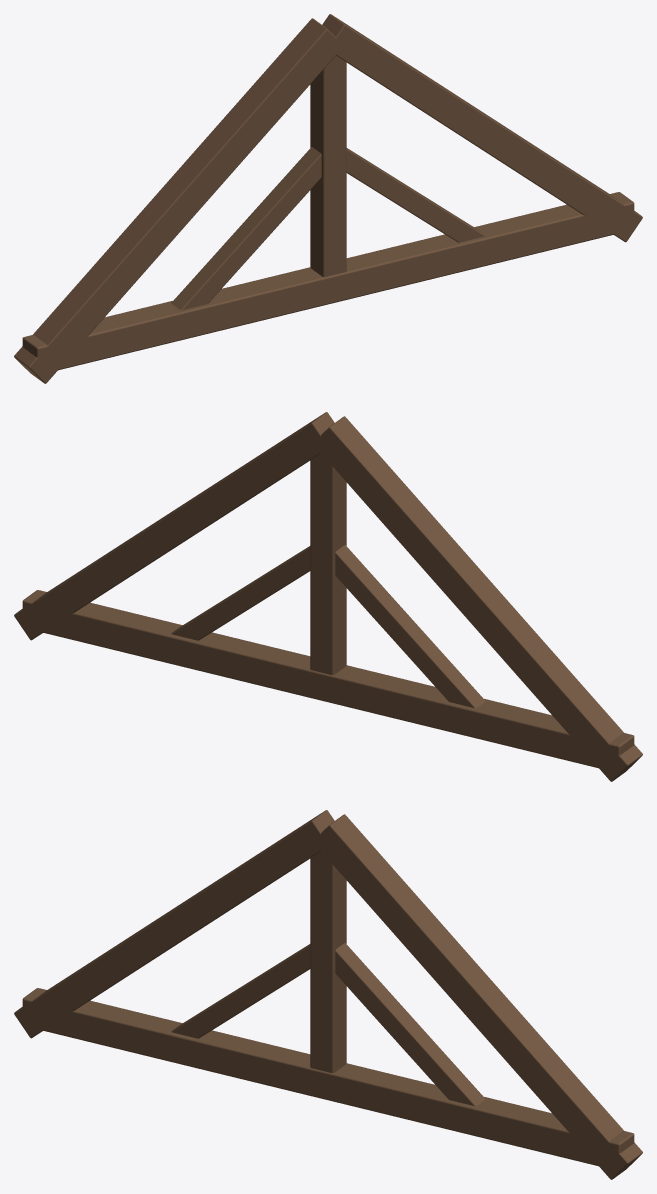
File: adventurers-tavern-and-guild-hall-king-post-truss-b78120d7__24677.glb
The picture shows the model from 3 angles, top to bottom: view 1: azimuth 30°, elevation 25°; view 2: azimuth 150°, elevation 25°; view 3: azimuth 330°, elevation 25°; orthographic projection.
Visible parts, largest first — view 1: king-post-truss; view 2: king-post-truss; view 3: king-post-truss.
Part boxes in pixels (bbox=[...]): king-post-truss: bbox=[14, 14, 642, 383]; king-post-truss: bbox=[14, 412, 642, 781]; king-post-truss: bbox=[14, 810, 642, 1179].
Size of the model in its own units: 4.11 by 1.83 by 0.1801.
